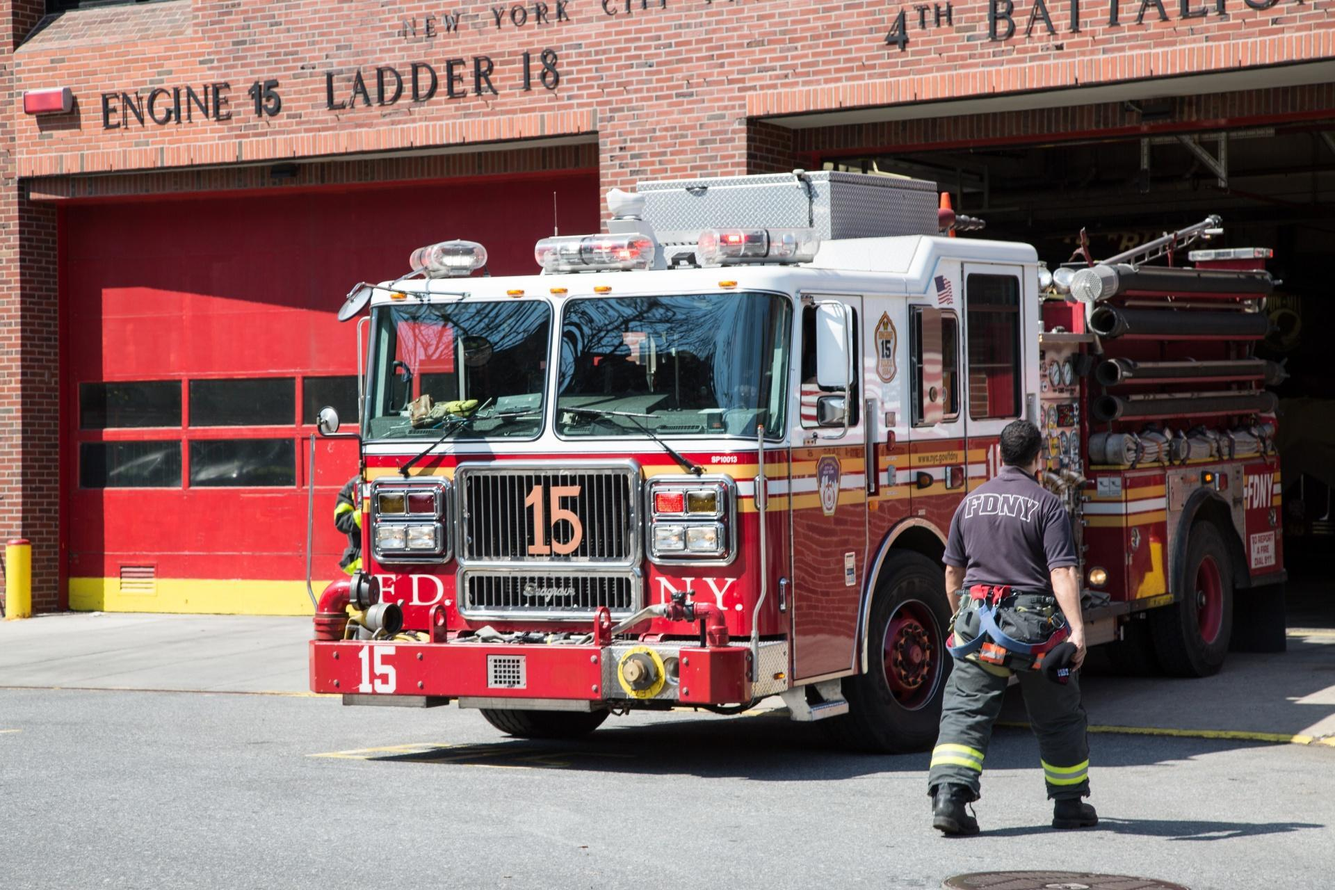Fire-engine: (310, 175, 1291, 755)
